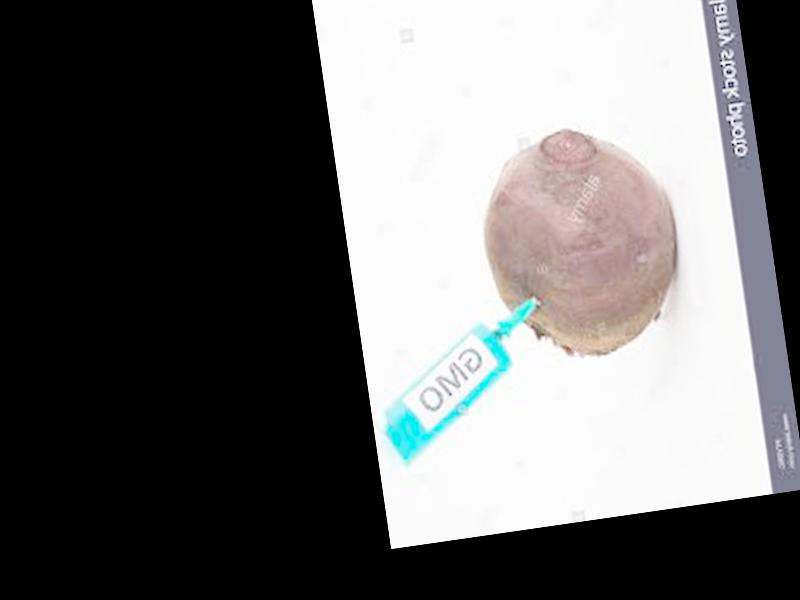Beet: (469, 117, 692, 365)
